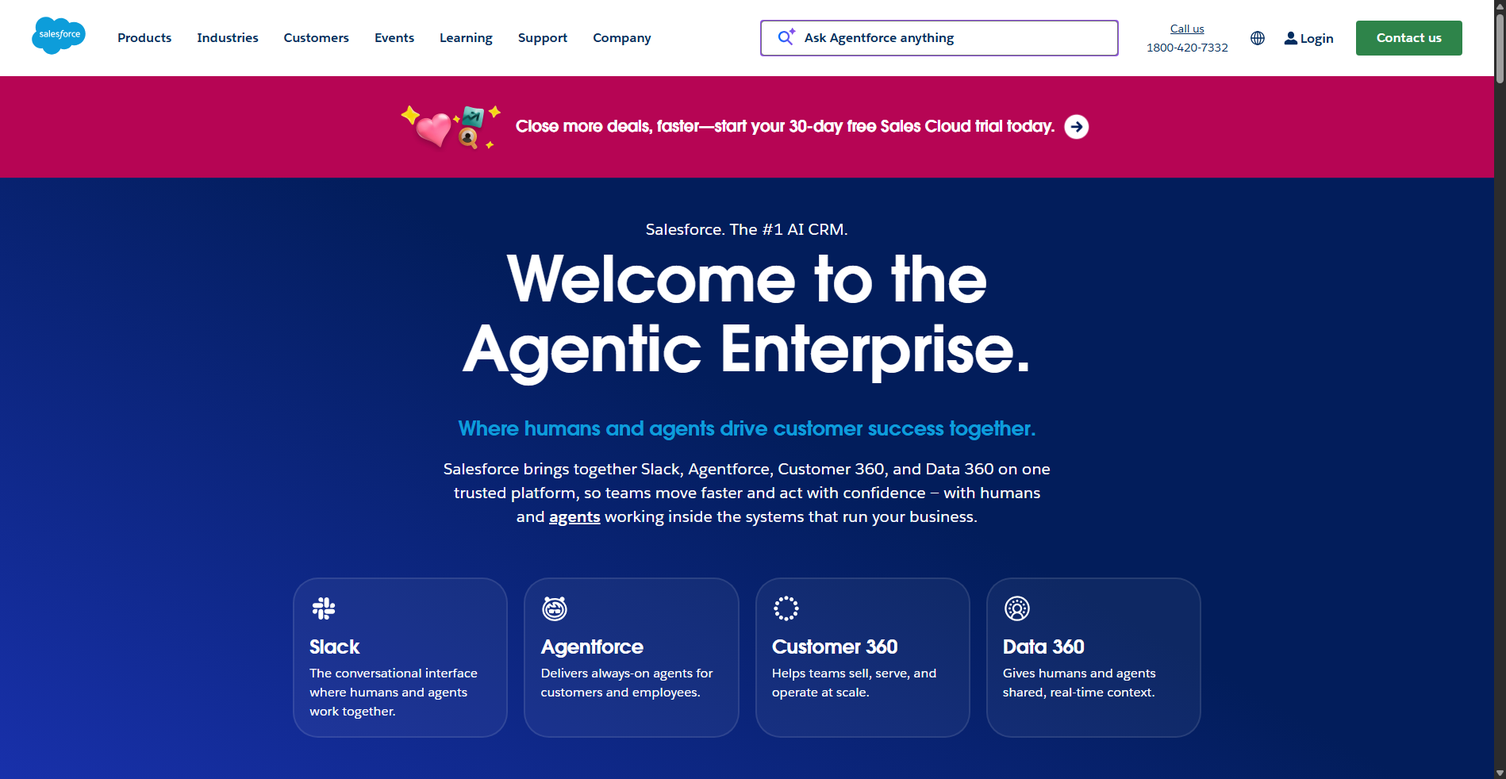button: (0, 76, 1494, 178), (293, 578, 508, 738), (524, 578, 739, 738), (755, 578, 970, 738), (986, 578, 1201, 738), (549, 506, 600, 527)
toggle: (400, 105, 503, 152), (1059, 109, 1094, 144), (310, 594, 338, 623), (541, 594, 569, 623), (772, 594, 800, 623), (1003, 594, 1031, 623)
